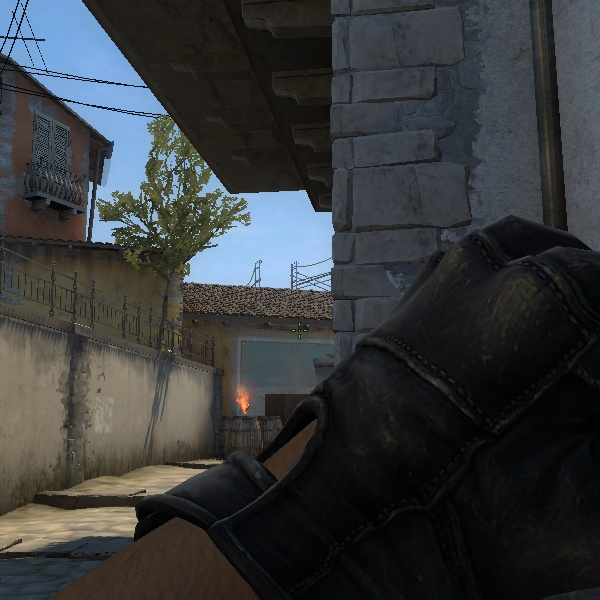ct_head: (204, 325, 349, 440)
